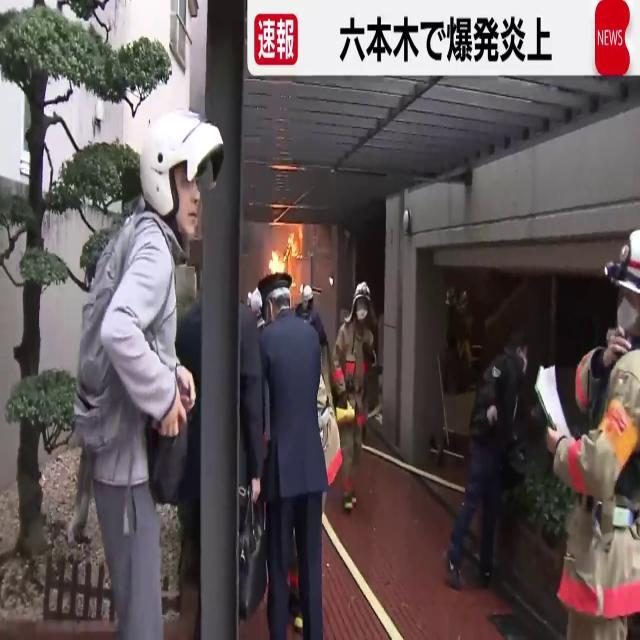Fire: (264, 222, 308, 299)
